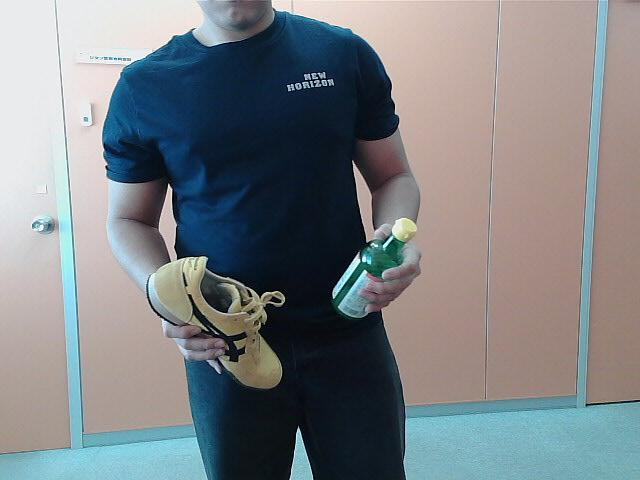Lemon_sapporo: (331, 217, 415, 322)
Shoes: (146, 251, 286, 394)
